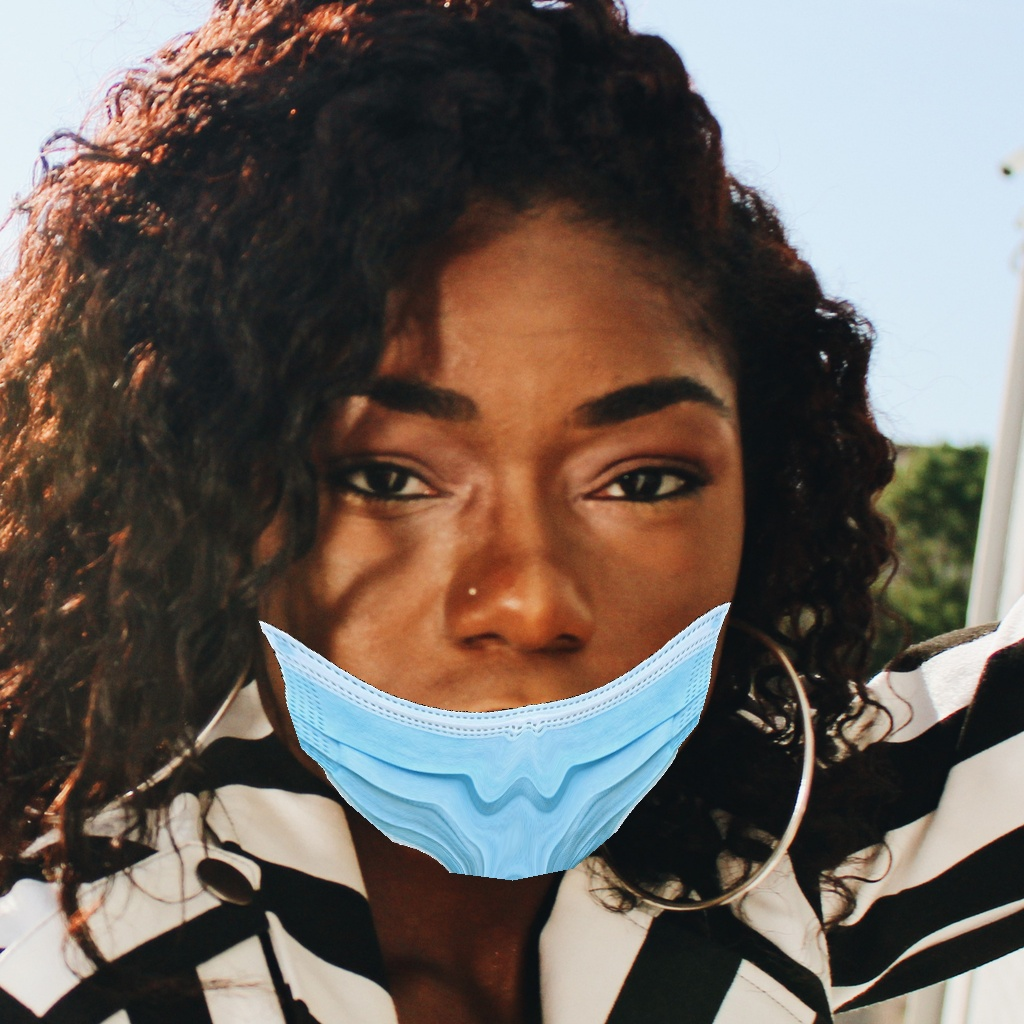Mask_Mouth_Chin: (251, 366, 745, 880)
